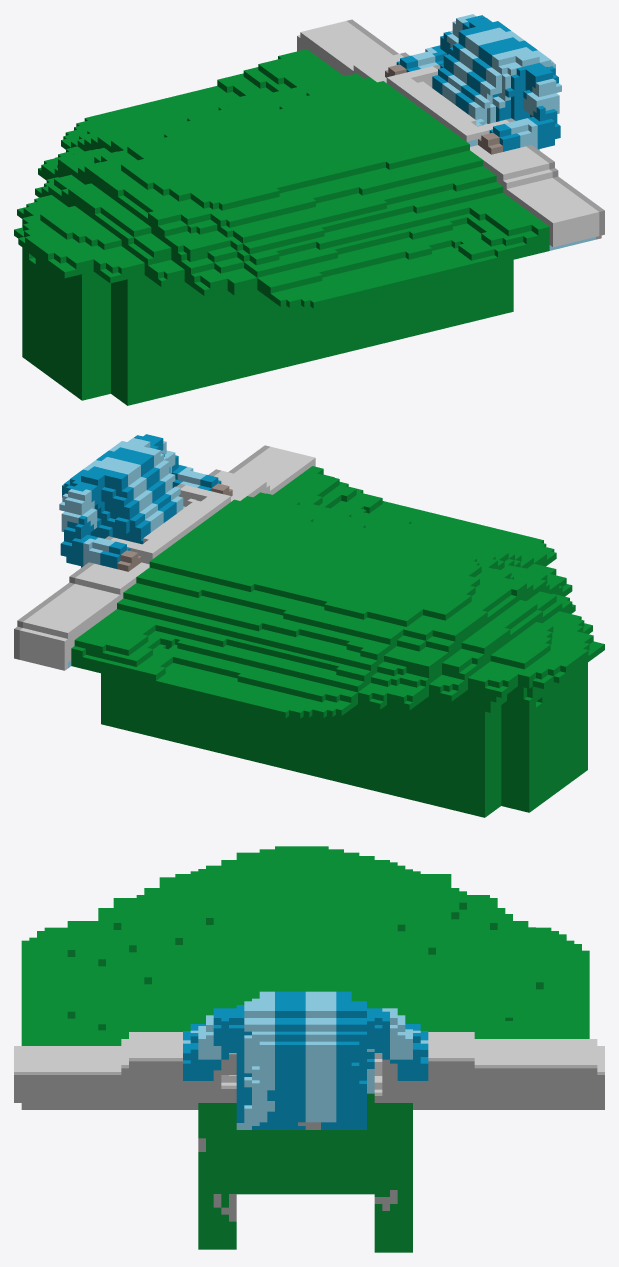
Rendered from goodnight-moon-14-awake1.obj.
3 renders of one model, top to bottom at view 1: azimuth 30°, elevation 25°; view 2: azimuth 150°, elevation 25°; view 3: azimuth 270°, elevation 25°, orthographic. The views are drawn at different scales.
Visible parts, largest first — view 1: awake1; view 2: awake1; view 3: awake1.
Boxes of the visible parts, bbox=[...] form: awake1: bbox=[14, 14, 604, 405]; awake1: bbox=[14, 434, 604, 817]; awake1: bbox=[14, 846, 604, 1252].
Bounding box in the file's own units: 8.7 × 3.8 × 7.7.
Materials: 1 (1 with a texture image).
